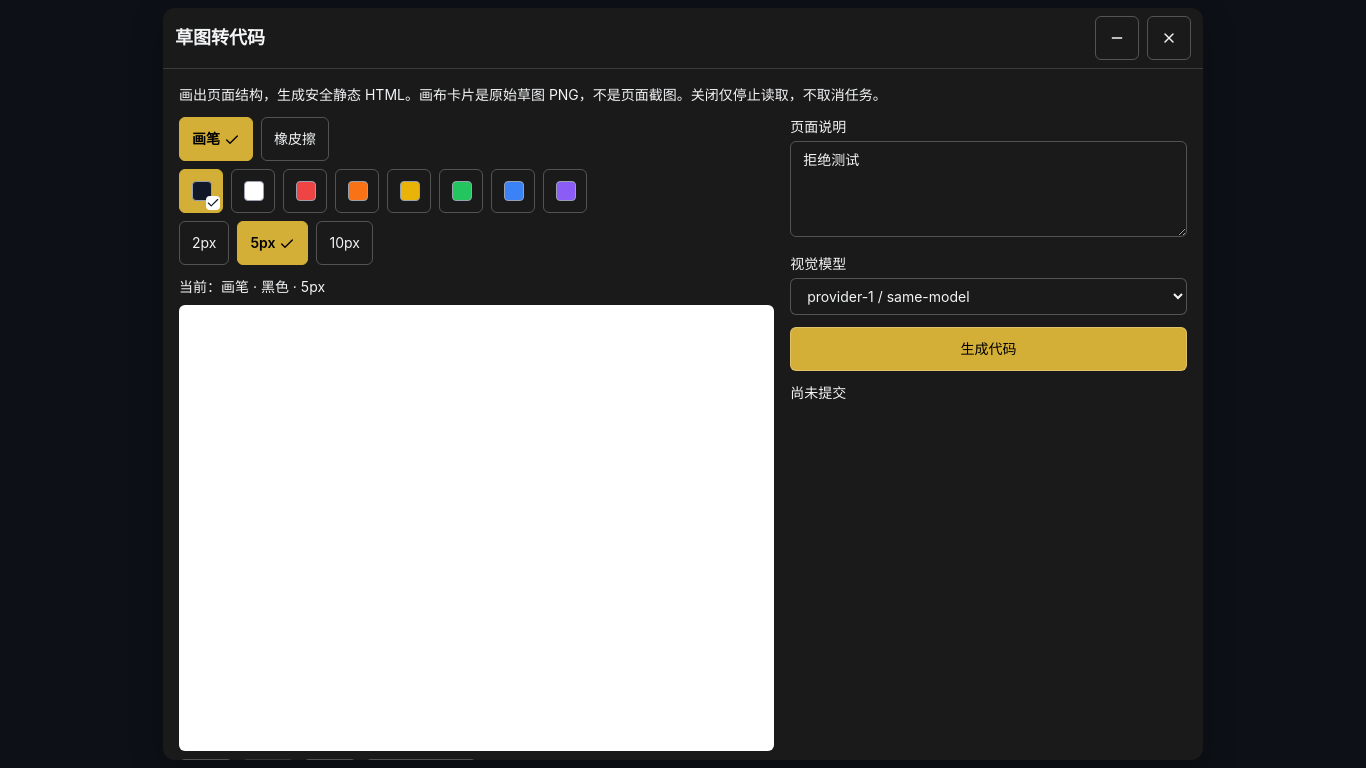
admission input and pending-copy contract › known input rejection preserves the frozen submission and drawing without claiming pending processing or refund
This screenshot has width=1366, height=768.
Click the button "生成代码". click: (989, 349)
box: [790,327,1187,371]
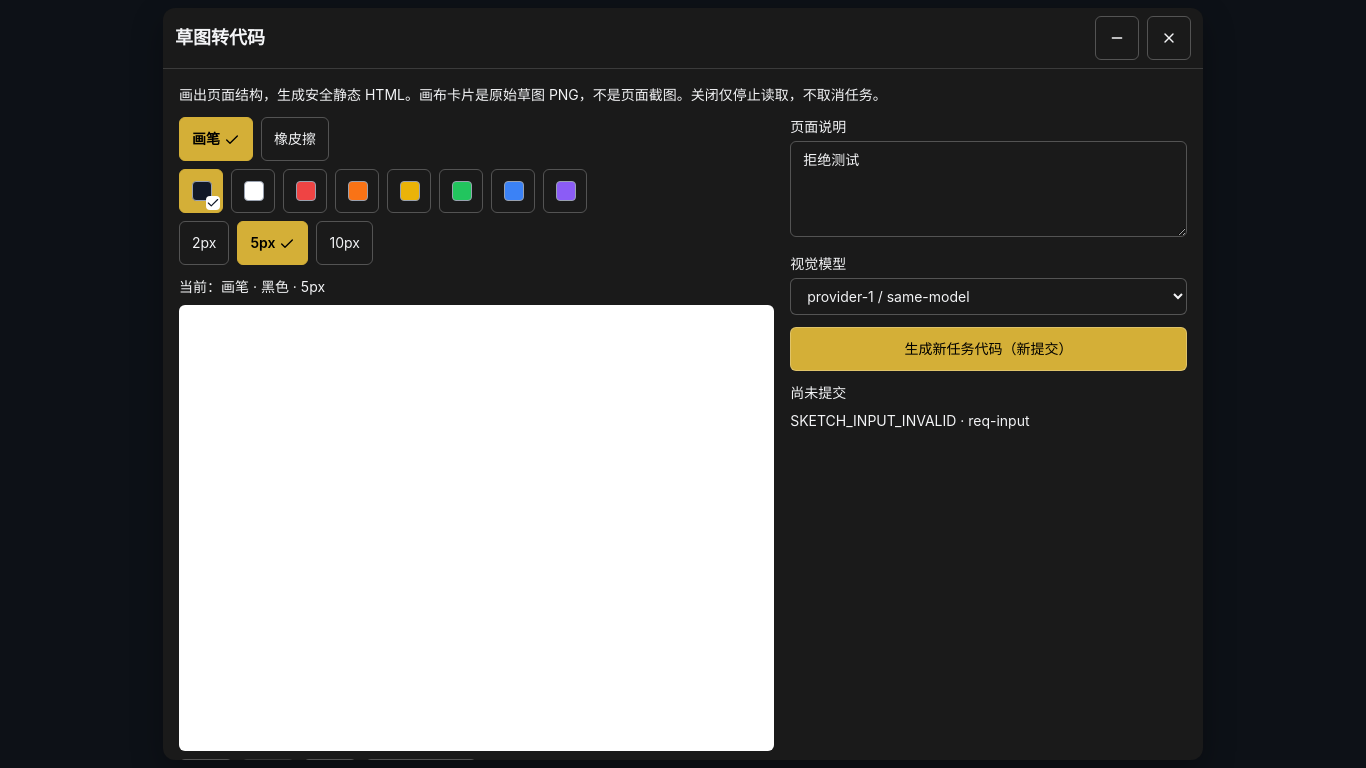
Check: the text "尚未提交" is shown, box [790,384,846,401]
Check: the text "SKETCH_INPUT_INVALID · req-input" is shown, box [790,412,1030,429]
